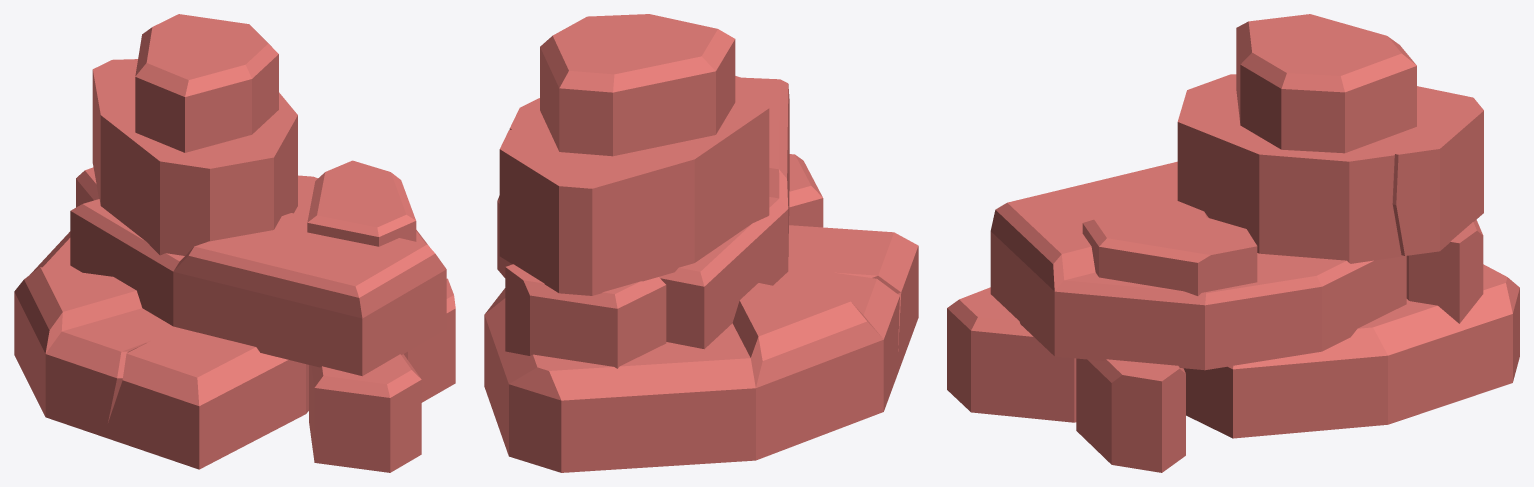
Rendered from RockType1 02.fbx.
3 views of the same model, side by side, from view 1: azimuth 30°, elevation 25°; view 2: azimuth 150°, elevation 25°; view 3: azimuth 270°, elevation 25° (orthographic). The views are drawn at different scales.
Visible parts, largest first — view 1: Rock Type1 02 mesh; view 2: Rock Type1 02 mesh; view 3: Rock Type1 02 mesh.
Part boxes in pixels (bbox=[...]): Rock Type1 02 mesh: bbox=[14, 14, 455, 472]; Rock Type1 02 mesh: bbox=[484, 14, 918, 472]; Rock Type1 02 mesh: bbox=[947, 14, 1519, 472].
Size of the model in its own units: 192 by 155 by 240.
